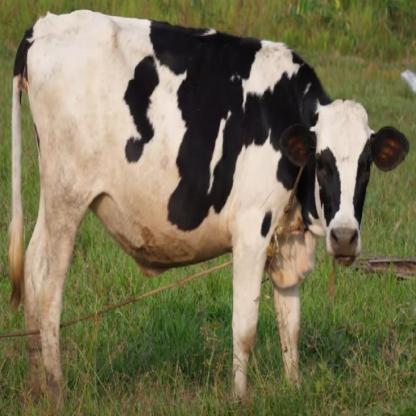cow: (11, 11, 409, 398)
